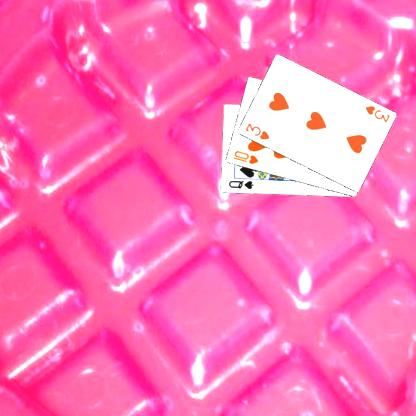10H: (230, 148, 260, 165)
3H: (362, 103, 391, 124), (242, 120, 270, 141)
QS: (226, 178, 255, 191)
